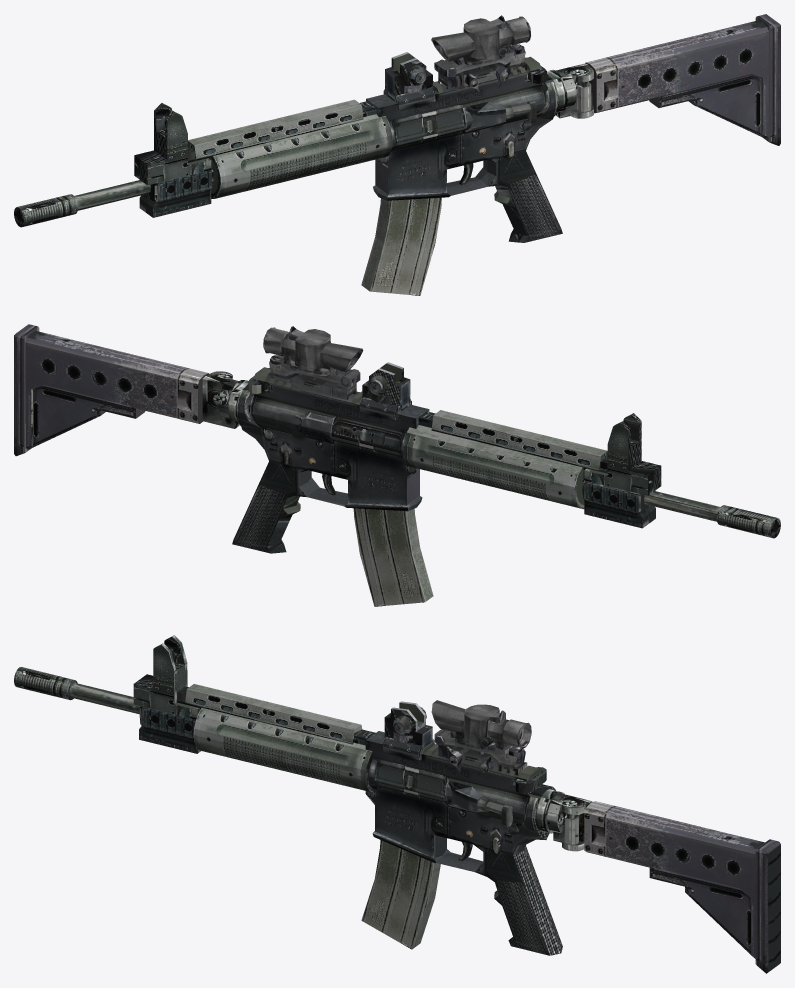
File: w_lr300_susat.obj
3 renders of one model, top to bottom at view 1: azimuth 30°, elevation 25°; view 2: azimuth 150°, elevation 25°; view 3: azimuth 330°, elevation 25°, orthographic.
Parts seen in each view (by area): view 1: Lr300, W_Susat; view 2: Lr300, W_Susat; view 3: Lr300, W_Susat.
Part boxes in pixels (box(x1,y1,x2,y2)): Lr300: box(14, 14, 780, 295); W_Susat: box(431, 15, 530, 91); Lr300: box(14, 324, 780, 606); W_Susat: box(263, 326, 363, 399); Lr300: box(14, 635, 780, 973); W_Susat: box(431, 700, 531, 776).
Size of the model in its own units: 13.72 by 4.45 by 0.8812.
